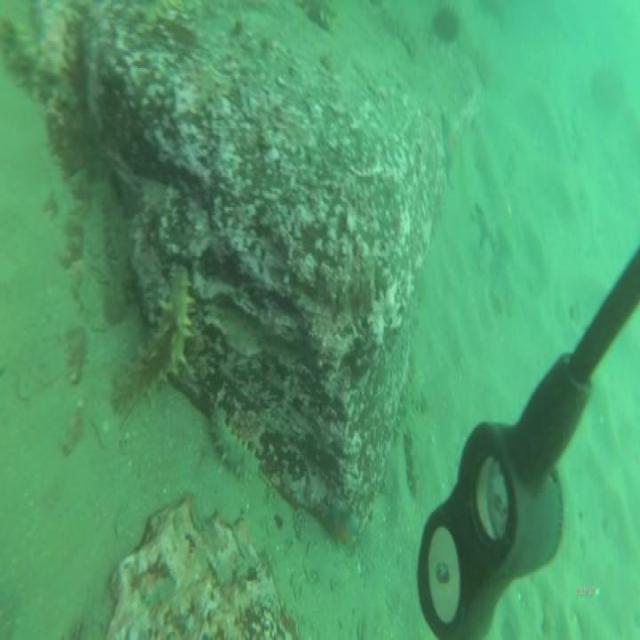echinus: (428, 1, 462, 51)
holothurian: (108, 256, 196, 427), (207, 398, 262, 488), (403, 424, 421, 499)
starfish: (326, 495, 362, 550)
